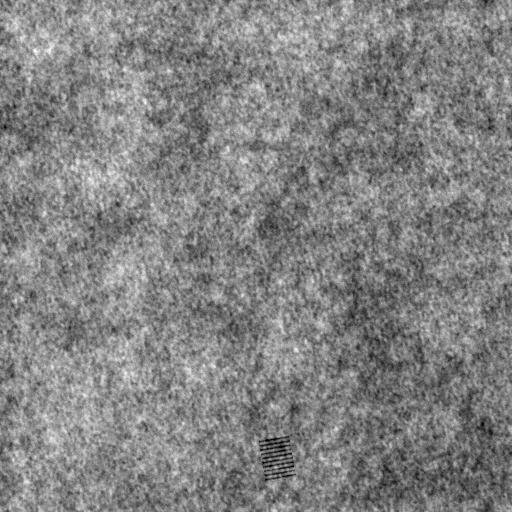impact: (256, 434, 298, 484)
